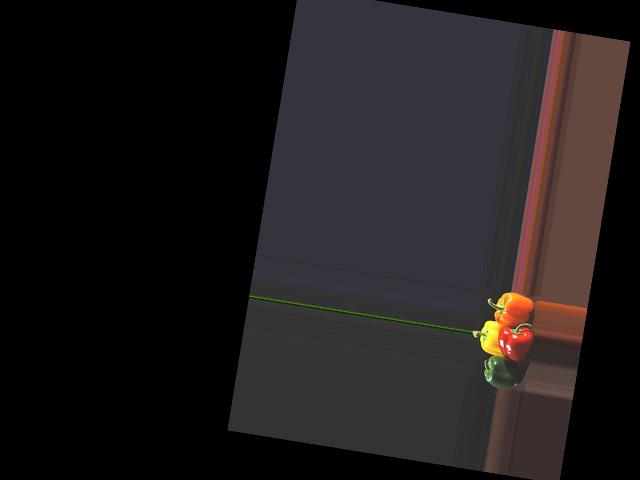bell_pepper: (488, 289, 541, 331)
